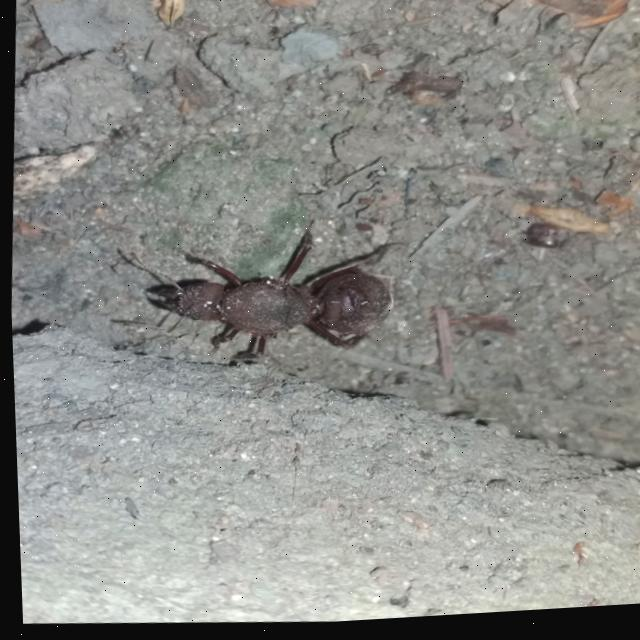Alive-Female-Dealate: (115, 208, 413, 376)
